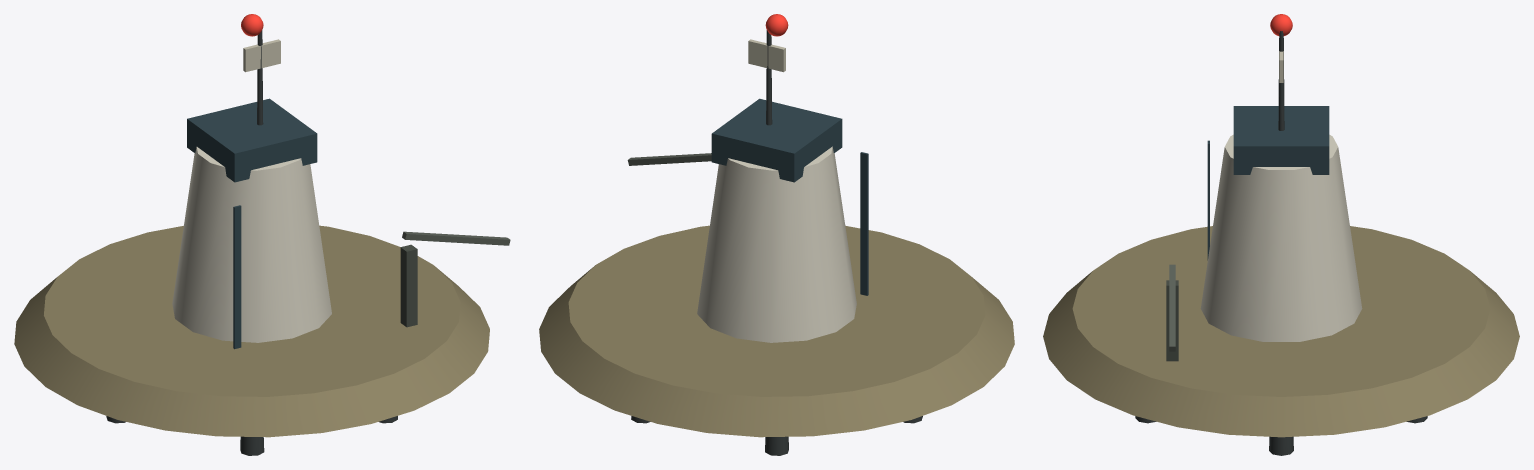
Rendered from fob_argus.glb.
3 views of the same model, side by side, from view 1: azimuth 30°, elevation 25°; view 2: azimuth 150°, elevation 25°; view 3: azimuth 270°, elevation 25° (orthographic).
Visible parts, largest first — view 1: platform, command_tower, tower_house, crane_post, ladder, radar_array, crane_boom; view 2: platform, command_tower, tower_house, ladder, radar_array, crane_boom; view 3: platform, command_tower, tower_house, crane_post, crane_boom, antenna_mast.
Part boxes in pixels (<box>): platform: <box>14,225,489,437</box>; command_tower: <box>172,147,331,342</box>; tower_house: <box>187,98,317,182</box>; crane_post: <box>400,244,417,327</box>; ladder: <box>233,205,241,349</box>; radar_array: <box>243,39,280,72</box>; crane_boom: <box>402,231,510,245</box>; platform: <box>539,225,1014,437</box>; command_tower: <box>697,146,856,342</box>; tower_house: <box>711,98,842,182</box>; ladder: <box>860,152,868,295</box>; radar_array: <box>748,39,785,72</box>; crane_boom: <box>627,153,711,165</box>; platform: <box>1043,226,1519,437</box>; command_tower: <box>1200,134,1362,341</box>; tower_house: <box>1233,106,1329,174</box>; crane_post: <box>1166,280,1178,361</box>; crane_boom: <box>1169,264,1175,351</box>; antenna_mast: <box>1278,31,1284,130</box>.
Size of the model in its own units: 21 by 18 by 21.
